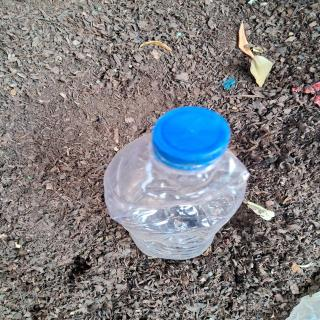Plastic-bottle: (99, 102, 255, 277)
